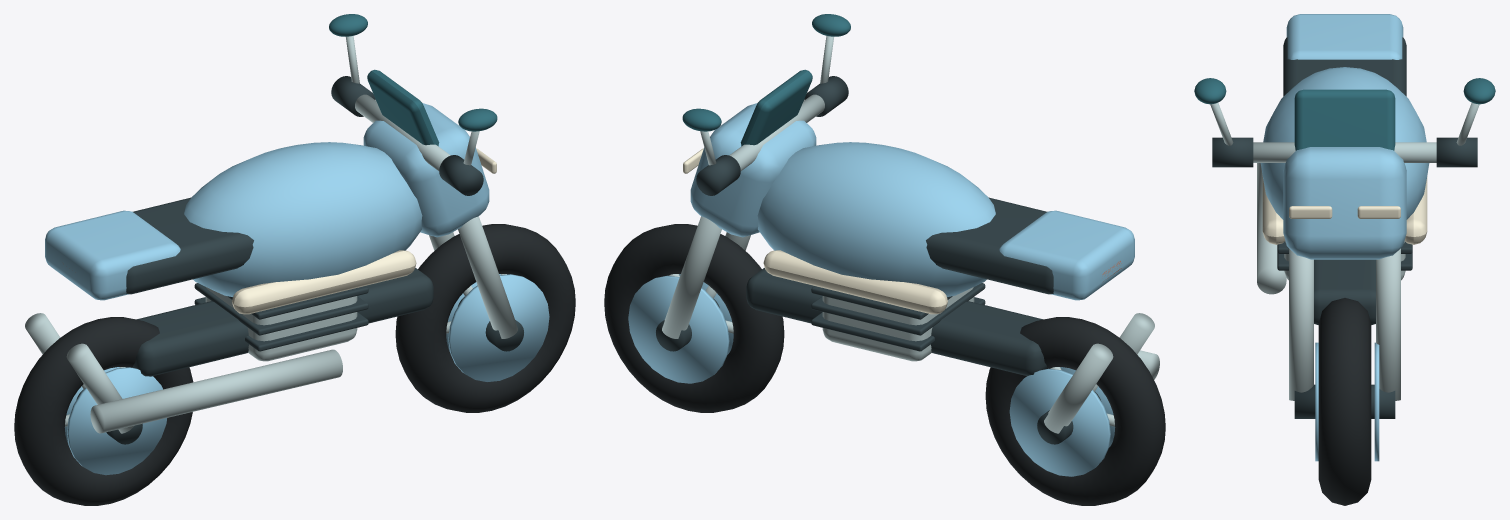
Rendered from future.glb.
The picture shows the model from 3 angles, left to right: view 1: azimuth 30°, elevation 25°; view 2: azimuth 150°, elevation 25°; view 3: azimuth 270°, elevation 25°; orthographic projection. The views are drawn at different scales.
Visible parts, largest first — view 1: LR Fuel tank.001, LR Tire.005, LR Tire.004, LR Chassis.002, LR Exhaust.002, LR Tail fairing.001, LR Front fairing.001, LR Aero wheel cover.002, LR Seat.002, LR Aero wheel cover, LR Aero fin, LR Engine.002 (+13 smaller); view 2: LR Fuel tank.001, LR Tire.005, LR Tire.004, LR Chassis.002, LR Tail fairing.001, LR Front fairing.001, LR Aero wheel cover.001, LR Aero wheel cover.003, LR Seat.002, LR Aero fin.001, LR Engine.002, LR Fork.011 (+11 smaller); view 3: LR Front fairing.001, LR Tire.005, LR Fuel tank.001, LR Windscreen.001, LR Tail fairing.001, LR Fork.010, LR Fork.011, LR Chassis.002, LR Seat.002, LR Exhaust.002, LR Handlebar.002, LR Axle.005 (+13 smaller).
Part boxes in pixels (bbox=[...]): LR Fuel tank.001: bbox=[184, 142, 422, 297]; LR Tire.005: bbox=[395, 224, 575, 412]; LR Tire.004: bbox=[14, 317, 193, 505]; LR Chassis.002: bbox=[132, 268, 433, 376]; LR Exhaust.002: bbox=[90, 349, 342, 433]; LR Tail fairing.001: bbox=[45, 210, 180, 300]; LR Front fairing.001: bbox=[363, 103, 489, 237]; LR Aero wheel cover.002: bbox=[448, 274, 549, 381]; LR Seat.002: bbox=[126, 197, 253, 294]; LR Aero wheel cover: bbox=[67, 367, 166, 475]; LR Aero fin: bbox=[232, 250, 416, 314]; LR Engine.002: bbox=[205, 287, 357, 361]; LR Fuel tank.001: bbox=[757, 142, 995, 297]; LR Tire.005: bbox=[604, 224, 784, 412]; LR Tire.004: bbox=[985, 317, 1165, 505]; LR Chassis.002: bbox=[746, 268, 1047, 376]; LR Tail fairing.001: bbox=[999, 210, 1134, 300]; LR Front fairing.001: bbox=[690, 103, 816, 237]; LR Aero wheel cover.001: bbox=[1009, 368, 1110, 476]; LR Aero wheel cover.003: bbox=[628, 275, 729, 383]; LR Seat.002: bbox=[926, 197, 1053, 294]; LR Aero fin.001: bbox=[763, 250, 947, 314]; LR Engine.002: bbox=[822, 287, 974, 361]; LR Fork.011: bbox=[662, 216, 721, 338]; LR Front fairing.001: bbox=[1283, 147, 1406, 259]; LR Tire.005: bbox=[1318, 298, 1371, 505]; LR Fuel tank.001: bbox=[1260, 67, 1429, 219]; LR Windscreen.001: bbox=[1294, 89, 1395, 150]; LR Tail fairing.001: bbox=[1286, 14, 1403, 59]; LR Fork.010: bbox=[1289, 248, 1313, 400]; LR Fork.011: bbox=[1376, 248, 1400, 400]; LR Chassis.002: bbox=[1314, 259, 1375, 324]; LR Seat.002: bbox=[1283, 37, 1406, 96]; LR Exhaust.002: bbox=[1257, 163, 1286, 294]; LR Handlebar.002: bbox=[1253, 142, 1436, 162]; LR Axle.005: bbox=[1294, 384, 1395, 418].
Size of the model in its own units: 2.91 by 1.82 by 1.32.
